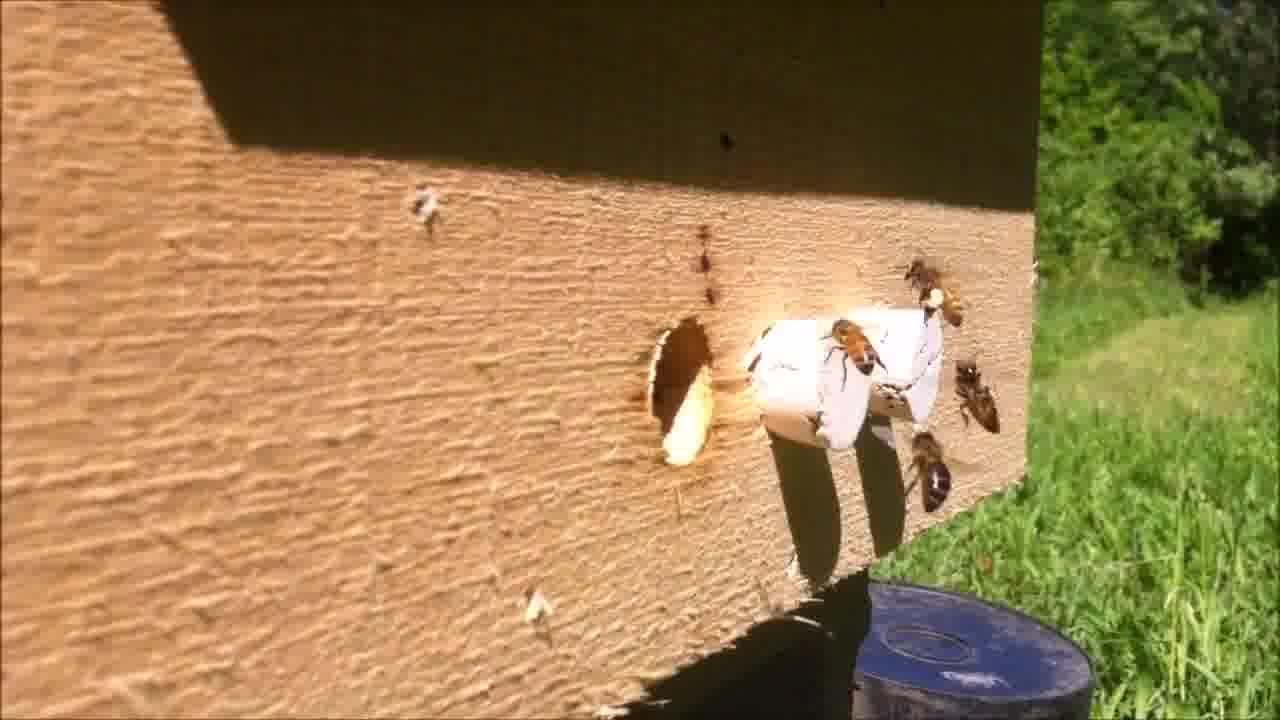pollen: (895, 254, 967, 327)
